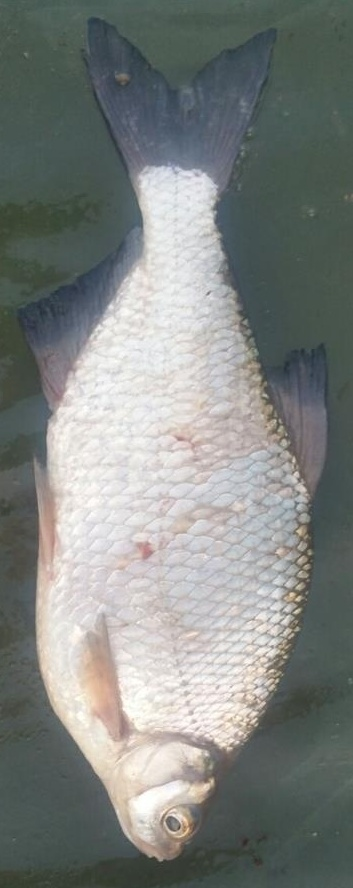Blicca bjoerkna: (20, 20, 333, 868)
